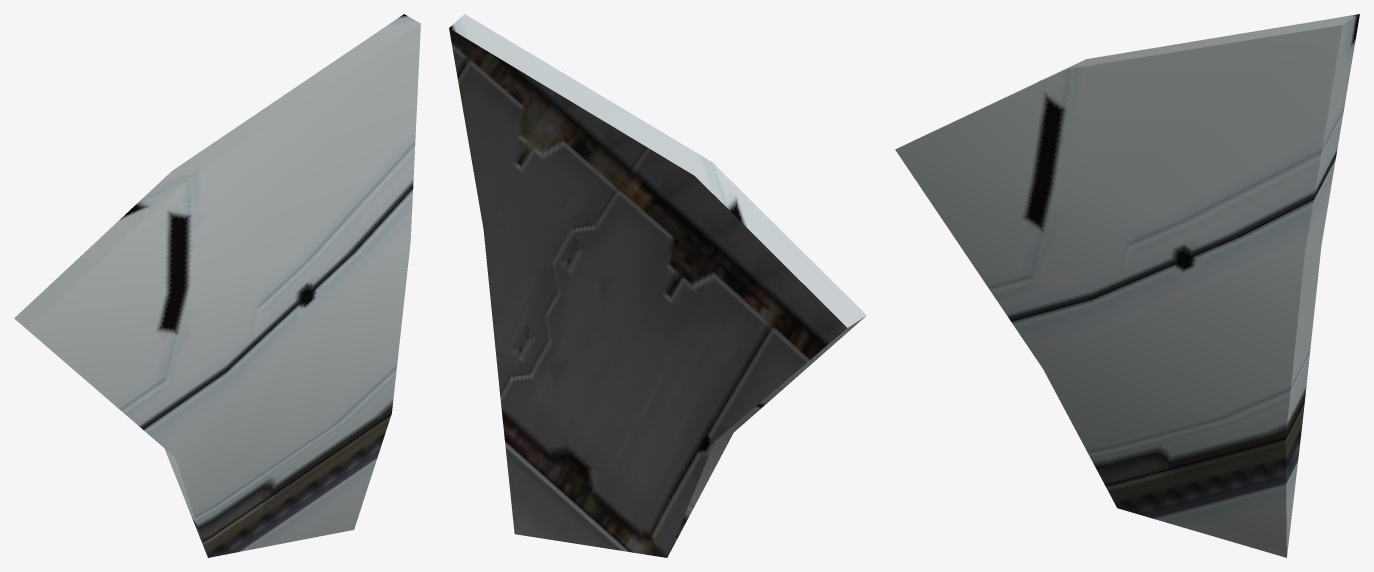
The model's file is stg200_obj_killer_brk_a.obj.
3 renders of one model, left to right at view 1: azimuth 30°, elevation 25°; view 2: azimuth 150°, elevation 25°; view 3: azimuth 330°, elevation 25°, orthographic. The views are drawn at different scales.
Parts seen in each view (by area): view 1: polygon0; view 2: polygon1, polygon0; view 3: polygon0.
Part boxes in pixels (x1,y1,x2,y2): polygon0: (14, 14, 420, 557); polygon1: (449, 28, 846, 557); polygon0: (449, 14, 866, 556); polygon0: (895, 14, 1359, 557).
Bounding box in the file's own units: 22.69 × 27.17 × 3.16.
2 materials, 2 textured.
